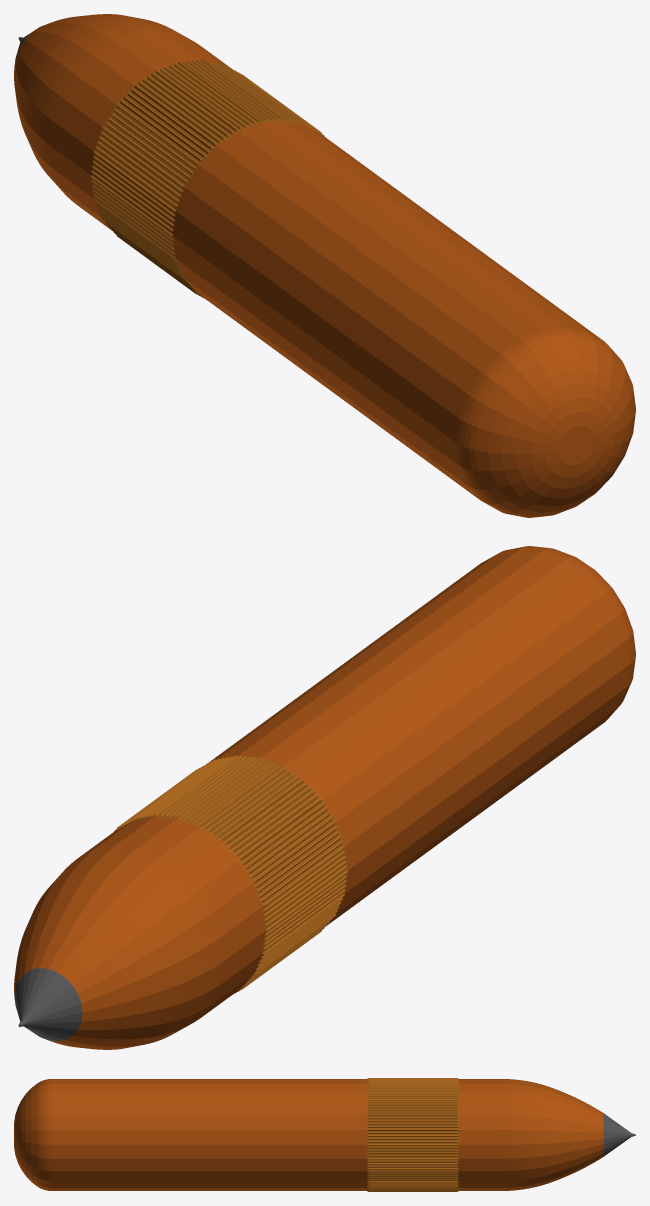
The model's file is STS_ET.dae.
3 views of the same model, one above another, from view 1: azimuth 30°, elevation 25°; view 2: azimuth 150°, elevation 25°; view 3: azimuth 270°, elevation 25° (orthographic). The views are drawn at different scales.
Visible parts, largest first — view 1: Component_8 (×3); view 2: Component_8 (×4); view 3: Component_8 (×4).
Part boxes in pixels (<box>): Component_8 (×3): <box>14,14,635,517</box>; Component_8 (×4): <box>14,546,635,1049</box>; Component_8 (×4): <box>14,1078,635,1191</box>.
Size of the model in its own units: 335 by 1823 by 335.
